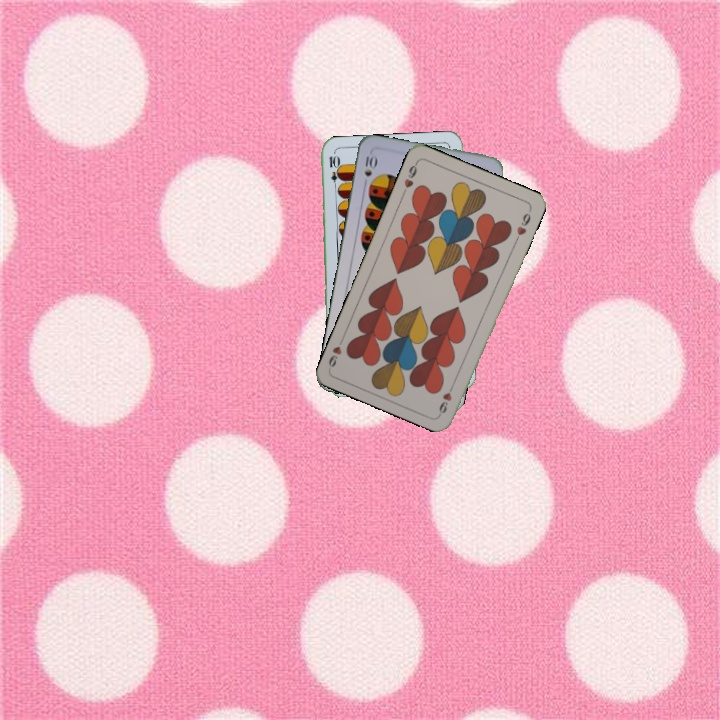E10: (325, 151, 341, 192)
H9: (435, 378, 458, 417), (399, 158, 420, 197)
S10: (360, 149, 379, 179)
